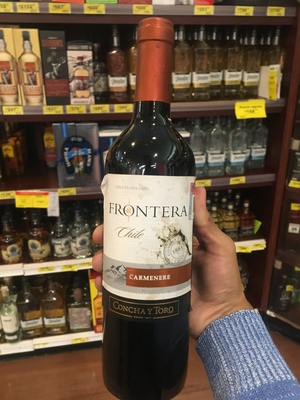frontera carmenere: (100, 32, 197, 400)
